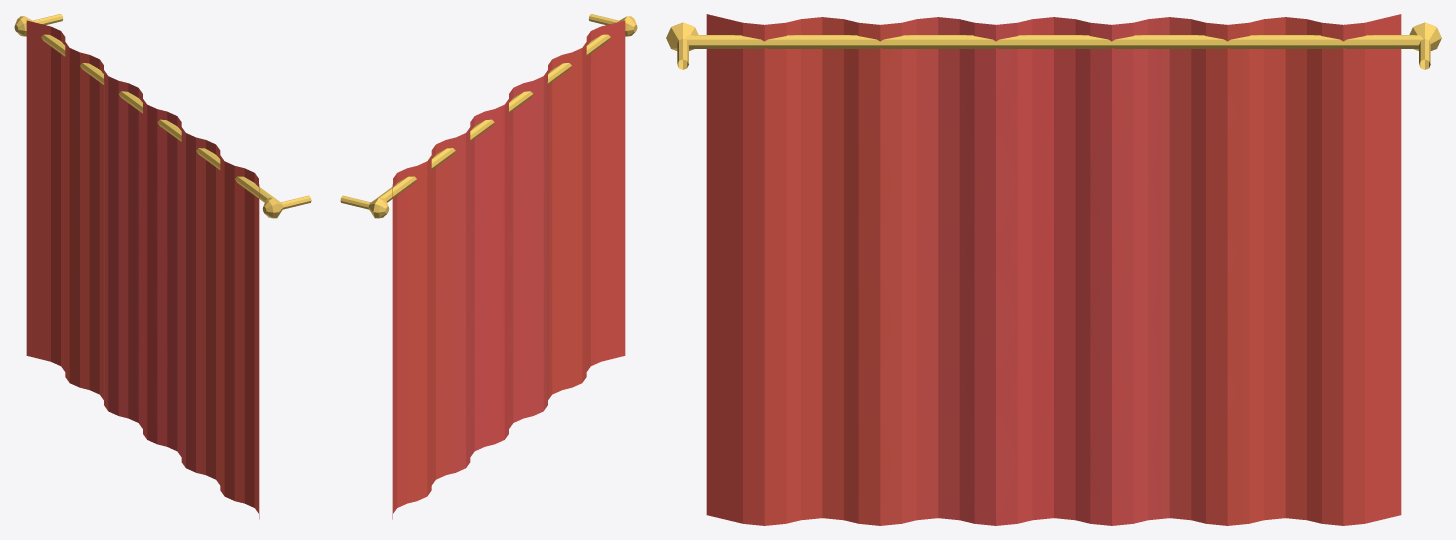
Rendered from gardina.fbx.
3 views of the same model, side by side, from view 1: azimuth 30°, elevation 25°; view 2: azimuth 150°, elevation 25°; view 3: azimuth 270°, elevation 25° (orthographic). The views are drawn at different scales.
Visible parts, largest first — view 1: Cube.009; view 2: Cube.009; view 3: Cube.009.
Boxes of the visible parts, left/top/right/bottom form: Cube.009: left=14, top=14, right=311, bottom=519; Cube.009: left=340, top=14, right=637, bottom=519; Cube.009: left=666, top=14, right=1441, bottom=525.
Bounding box in the file's own units: 83.51 × 596 × 836.
